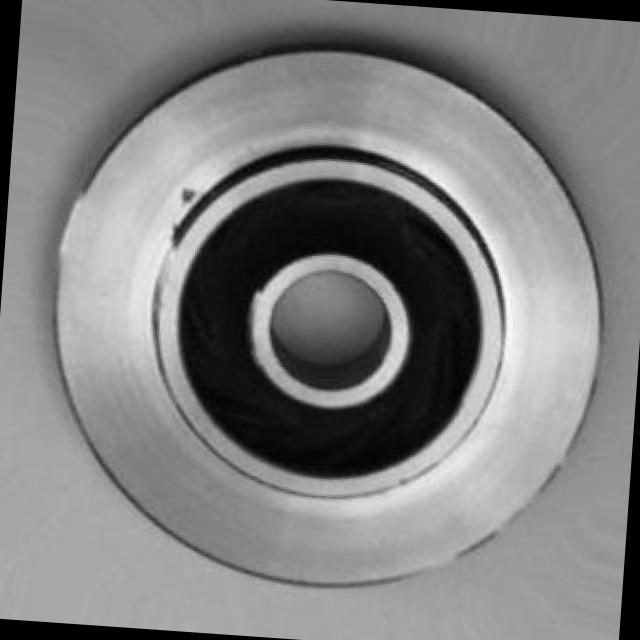Defect: (176, 180, 206, 208)
